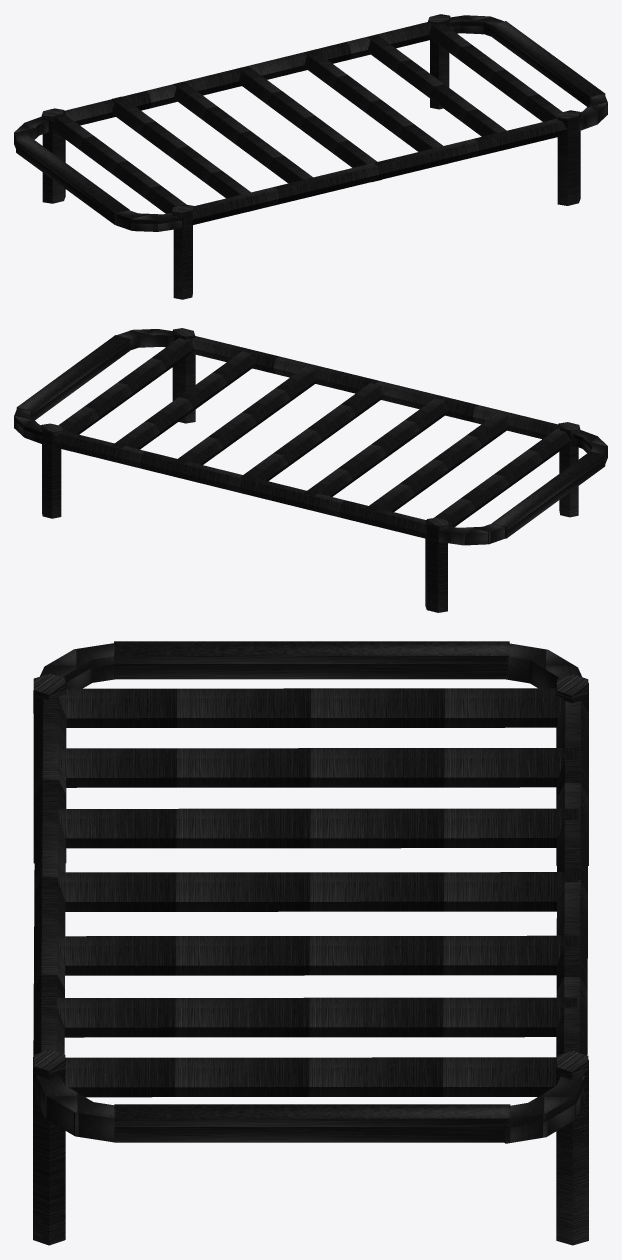
Rendered from BedFrame.obj.
The picture shows the model from 3 angles, top to bottom: view 1: azimuth 30°, elevation 25°; view 2: azimuth 150°, elevation 25°; view 3: azimuth 270°, elevation 25°; orthographic projection. The views are drawn at different scales.
Visible parts, largest first — view 1: FrameRight, FrameLeft, Slat6, Slat4, Slat5, Slat3, Slat2, Slat1, Slat7, FrameTop, FrameBottom, Arch2 (+5 smaller); view 2: FrameLeft, FrameRight, Slat6, Slat5, Slat3, Slat4, Slat2, Slat1, Slat7, FrameTop, FrameBottom, Arch1 (+5 smaller); view 3: Slat5, Slat2, Slat3, Slat6, Slat4, Slat7, Slat1, FrameTop, FrameBottom, FrameRight, FrameLeft, Arch1 (+3 smaller).
Boxes of the visible parts, bbox=[...] form: FrameRight: bbox=[192, 118, 579, 224]; FrameLeft: bbox=[51, 21, 450, 127]; Slat6: bbox=[111, 96, 250, 198]; Slat4: bbox=[238, 66, 381, 181]; Slat5: bbox=[173, 81, 312, 183]; Slat3: bbox=[304, 50, 442, 151]; Slat2: bbox=[367, 35, 506, 136]; Slat1: bbox=[429, 24, 562, 121]; Slat7: bbox=[51, 114, 186, 213]; FrameTop: bbox=[491, 21, 605, 106]; FrameBottom: bbox=[16, 137, 129, 224]; Arch2: bbox=[116, 15, 503, 231]; FrameLeft: bbox=[40, 431, 439, 538]; FrameRight: bbox=[191, 336, 574, 446]; Slat6: bbox=[366, 413, 509, 511]; Slat5: bbox=[304, 398, 447, 496]; Slat3: bbox=[175, 366, 317, 464]; Slat4: bbox=[240, 383, 383, 481]; Slat2: bbox=[111, 351, 254, 449]; Slat1: bbox=[58, 338, 193, 434]; Slat7: bbox=[434, 428, 570, 527]; FrameTop: bbox=[16, 335, 130, 420]; FrameBottom: bbox=[491, 451, 605, 538]; Arch1: bbox=[117, 329, 504, 545]; Slat5: bbox=[58, 808, 578, 848]; Slat2: bbox=[57, 997, 577, 1037]; Slat3: bbox=[57, 935, 577, 975]; Slat6: bbox=[58, 748, 578, 787]; Slat4: bbox=[58, 872, 577, 911]; Slat7: bbox=[59, 688, 564, 727]; Slat1: bbox=[65, 1057, 556, 1097]; FrameTop: bbox=[114, 1104, 510, 1142]; FrameBottom: bbox=[114, 641, 509, 679]; FrameRight: bbox=[33, 696, 66, 1088]; FrameLeft: bbox=[556, 700, 588, 1093]; Arch1: bbox=[36, 643, 581, 1142].
Bounding box in the file's own units: 2.77 × 0.4697 × 1.36.
